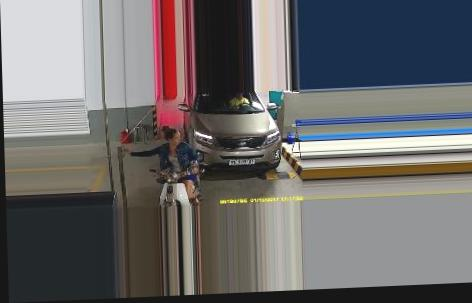License_Plate: (228, 154, 257, 168)
